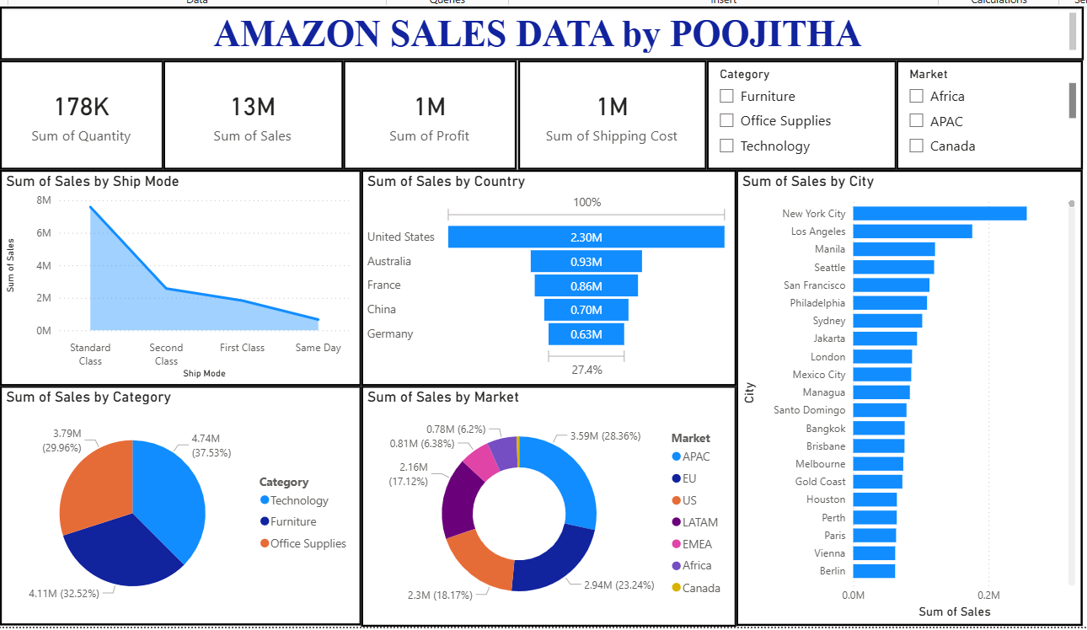

What the dashboard file says about the page in this screenshot:
{"tool":"powerbi","page":{"name":"Page 1","canvas":[1280,720],"ordinal":0},"visuals":[{"type":"pieChart","fields":{"Category":["Orders.Category"],"Y":["Sum(Orders.Sales)"]},"box":[13,440,419.8,278.5],"z":0},{"type":"donutChart","fields":{"Category":["Orders.Market"],"Y":["Sum(Orders.Sales)"]},"box":[432.8,440,435.7,279.9],"z":1000},{"type":"areaChart","fields":{"Category":["Orders.Ship Mode"],"Y":["Sum(Orders.Sales)"]},"box":[13,189,419.8,251],"z":2000},{"type":"clusteredBarChart","fields":{"Category":["Orders.City"],"Y":["Sum(Orders.Sales)"]},"box":[868.5,189,402.5,529.5],"z":3000},{"type":"funnel","fields":{"Category":["Orders.Country"],"Y":["Sum(Orders.Sales)"]},"box":[432.8,189,435.7,251],"z":4000},{"type":"textbox","box":[13,0,1258.1,62],"z":5000},{"type":"card","fields":{"Values":["Sum(Orders.Quantity)"]},"box":[13,62,190.4,127],"z":6000},{"type":"card","fields":{"Values":["Sum(Orders.Sales)"]},"box":[203.4,62,209.2,127],"z":7000},{"type":"card","fields":{"Values":["Sum(Orders.Profit)"]},"box":[412.6,62,202,127],"z":8000},{"type":"card","fields":{"Values":["Sum(Orders.Shipping Cost)"]},"box":[614.6,62,219.3,127],"z":9000},{"type":"slicer","fields":{"Values":["Orders.Category"]},"box":[833.9,62,220.7,127],"z":10000},{"type":"slicer","fields":{"Values":["Orders.Market"]},"box":[1054.7,62,216.4,127],"z":11000}]}

Visuals, with their boxes in screenshot pixels (x1, y1, x2, y2):
pieChart - Orders.Category x Sum(Orders.Sales): <region>0, 385, 356, 627</region>
donutChart - Orders.Market x Sum(Orders.Sales): <region>356, 385, 734, 628</region>
areaChart - Orders.Ship Mode x Sum(Orders.Sales): <region>0, 167, 356, 385</region>
clusteredBarChart - Orders.City x Sum(Orders.Sales): <region>734, 167, 1084, 627</region>
funnel - Orders.Country x Sum(Orders.Sales): <region>356, 167, 734, 385</region>
textbox: <region>0, 3, 1084, 57</region>
card - Sum(Orders.Quantity): <region>0, 57, 157, 167</region>
card - Sum(Orders.Sales): <region>157, 57, 338, 167</region>
card - Sum(Orders.Profit): <region>338, 57, 514, 167</region>
card - Sum(Orders.Shipping Cost): <region>514, 57, 704, 167</region>
slicer - Orders.Category: <region>704, 57, 896, 167</region>
slicer - Orders.Market: <region>896, 57, 1084, 167</region>
